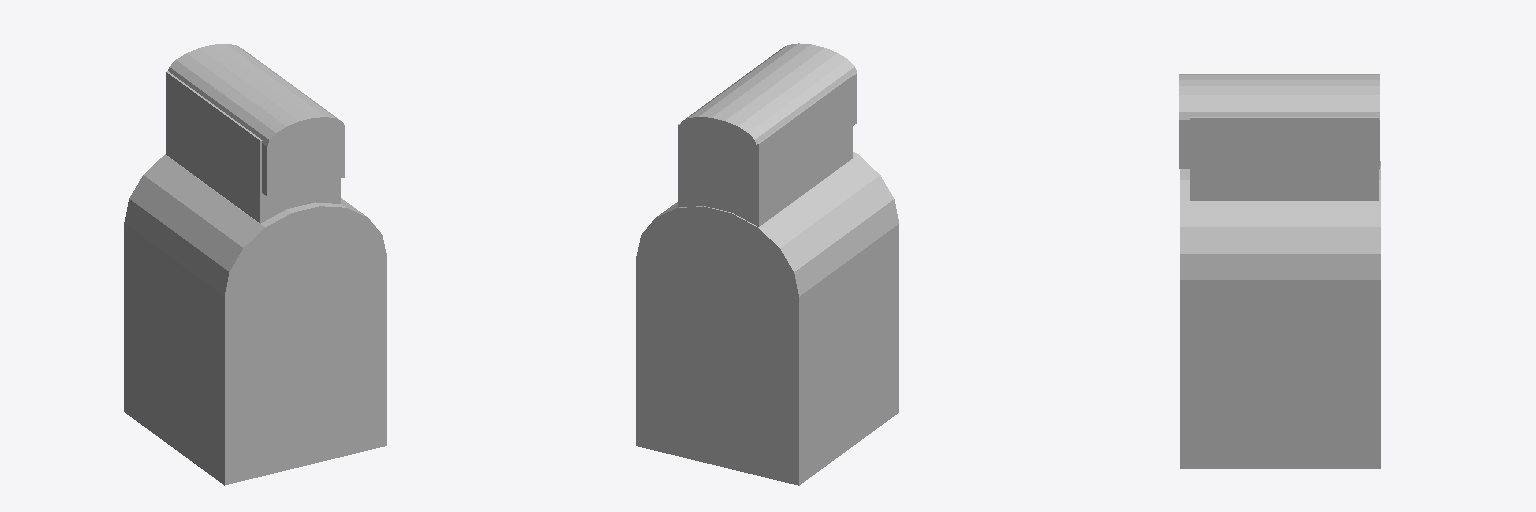
The model's file is main_ridge_0.obj.
3 views of the same model, side by side, from view 1: azimuth 30°, elevation 25°; view 2: azimuth 150°, elevation 25°; view 3: azimuth 270°, elevation 25° (orthographic).
Visible parts, largest first — view 1: Cylinder01, Cylinder01__1_, Cube; view 2: Cylinder01, Cylinder01__1_, Cube; view 3: Cylinder01, Cube, Cylinder01__1_.
Part boxes in pixels (left/top/right/bottom): Cylinder01: left=124, top=154, right=386, bottom=485; Cylinder01__1_: left=168, top=44, right=344, bottom=195; Cube: left=166, top=71, right=340, bottom=223; Cylinder01: left=636, top=152, right=898, bottom=485; Cylinder01__1_: left=679, top=43, right=856, bottom=195; Cube: left=678, top=75, right=852, bottom=226; Cylinder01: left=1180, top=161, right=1380, bottom=468; Cube: left=1190, top=117, right=1378, bottom=200; Cylinder01__1_: left=1179, top=74, right=1379, bottom=168.
Size of the model in its own units: 1.31 by 2.67 by 1.41.